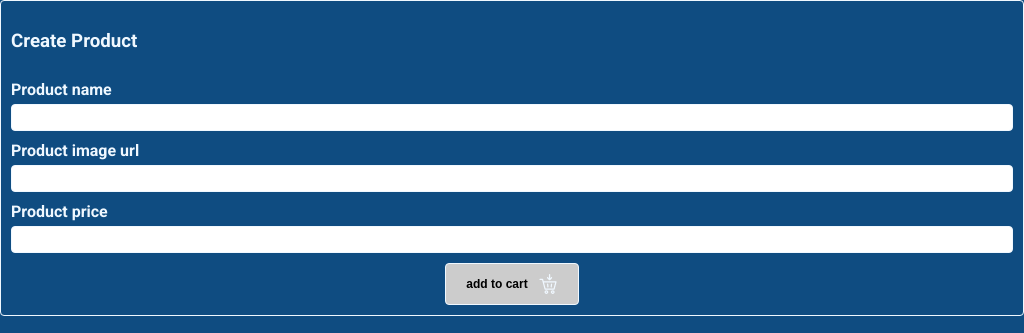
AddToCartForm › checks form valid
Type "new product" into the field labelled "Product name".
click(512, 118); type("new product")  # box x1=11 y1=104 x2=1013 y2=131
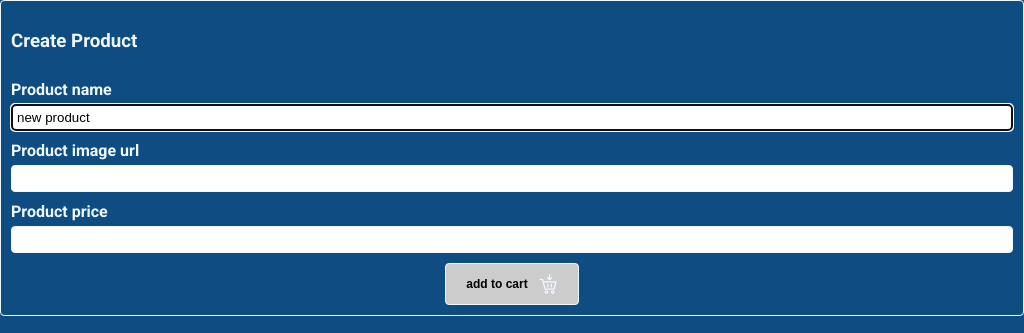
Type "https://ipsumimage.appspot.com/140x100.png" into the field labelled "Product image url".
click(512, 179); type("https://ipsumimage.appspot.com/140x100.png")  # box x1=11 y1=165 x2=1013 y2=192
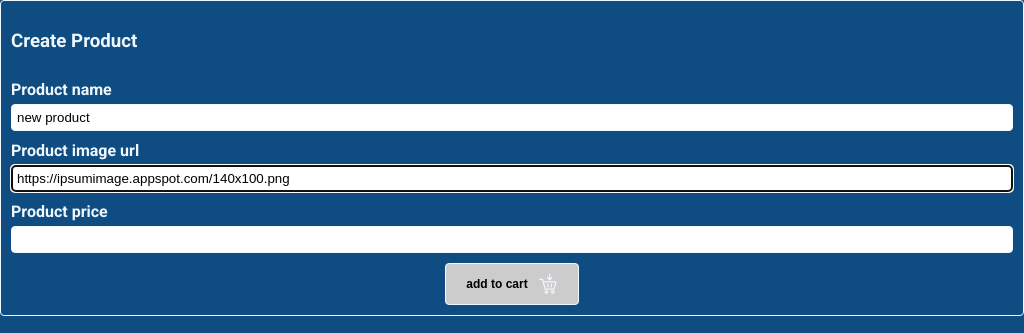
Type "55.99" into the number field labelled "Product price".
click(512, 240); type("55.99")  # box x1=11 y1=226 x2=1013 y2=253
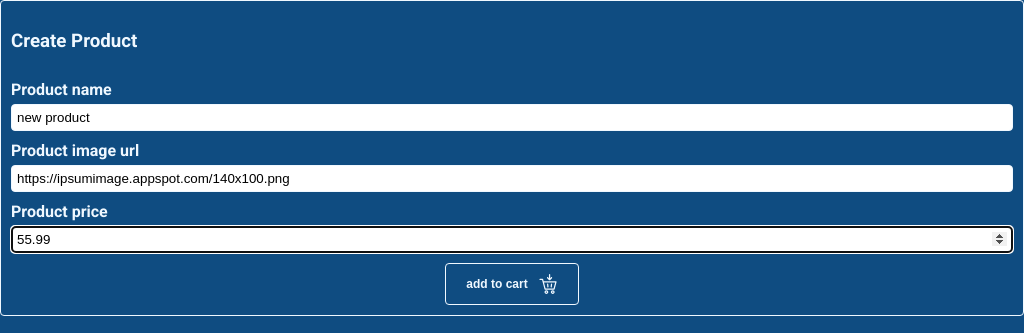
Result: the button with test id "create-product-btn" is enabled at x1=445 y1=263 x2=579 y2=305
